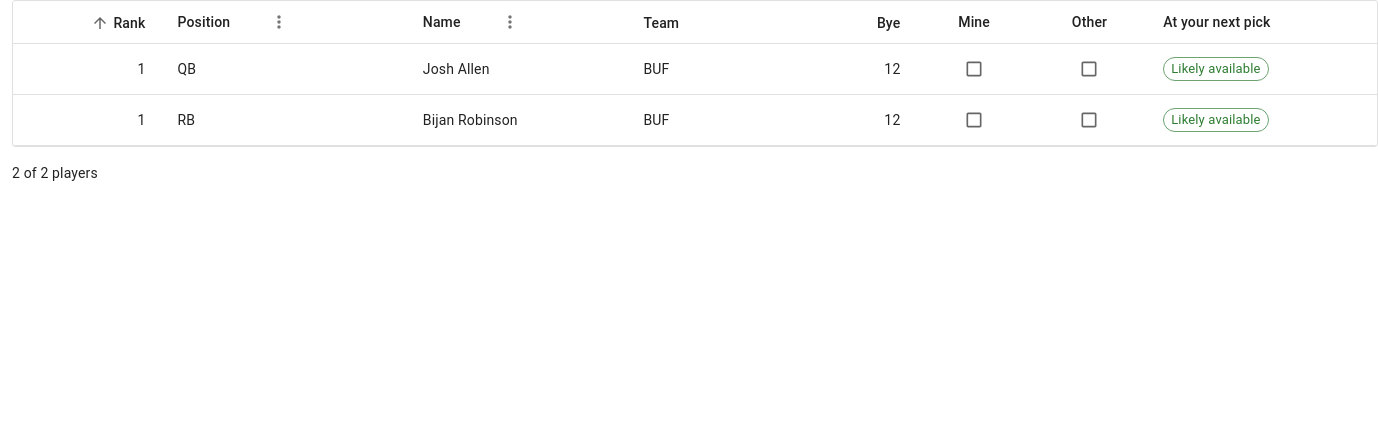
Scenario: PlayerTable › shows the count of visible vs total players
The width and height of the screenshot is (1378, 442).
Check: the text "2 of 2 players" is shown, box left=12, top=165, right=98, bottom=181
What coordinates should you click on to do the following:
click the button named "Open position filter menu"
I would click on:
 (279, 22)
Its box is left=264, top=7, right=294, bottom=37.
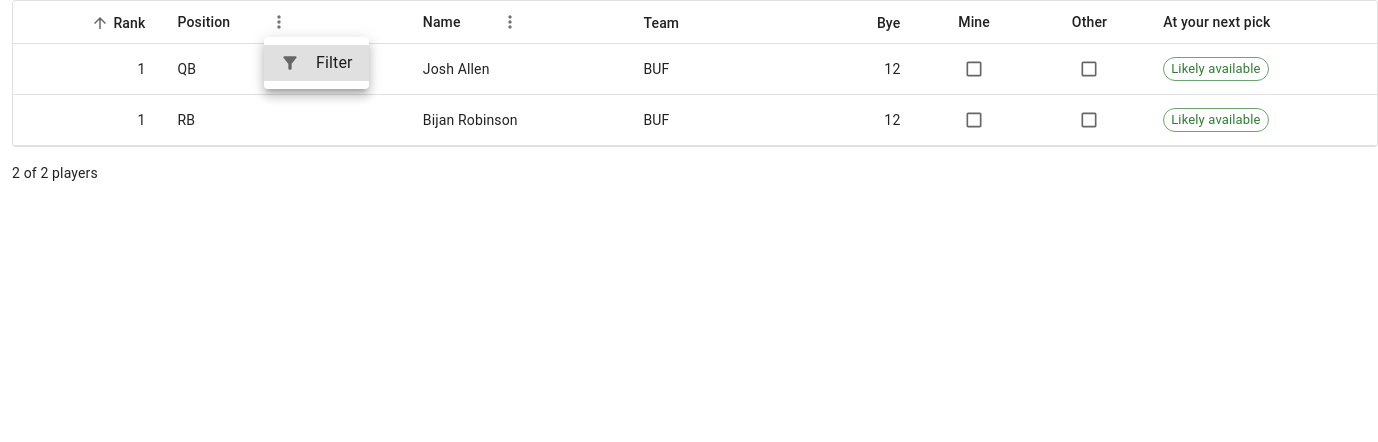
What coordinates should you click on to do the following:
click the menu item "Filter"
I would click on:
 (316, 63)
Its box is left=264, top=45, right=369, bottom=81.
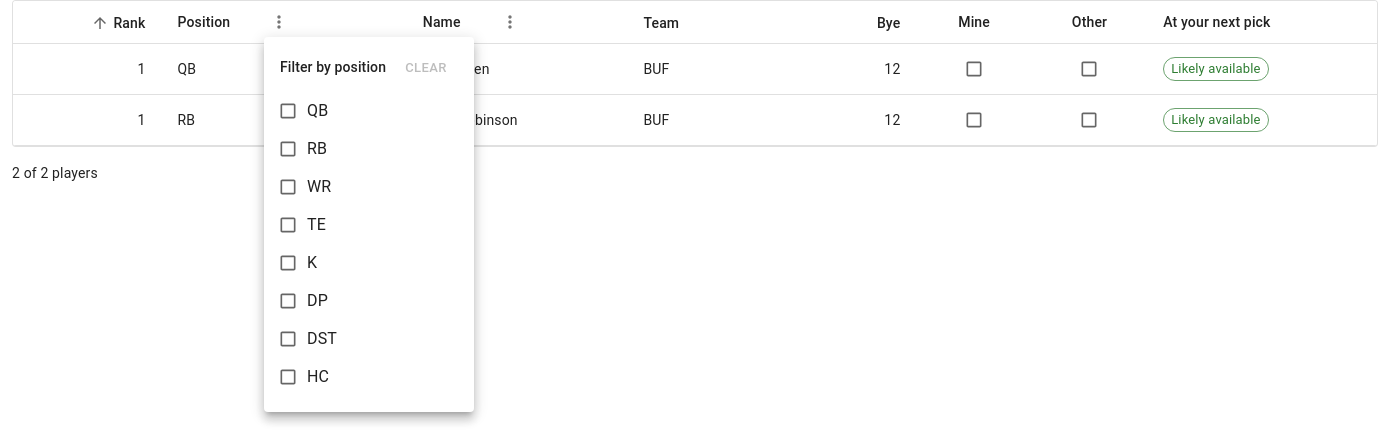
What coordinates should you click on to do the following:
click the 5th checkbox labelled "RB"
I would click on:
 (288, 149)
Its box is left=278, top=139, right=327, bottom=159.
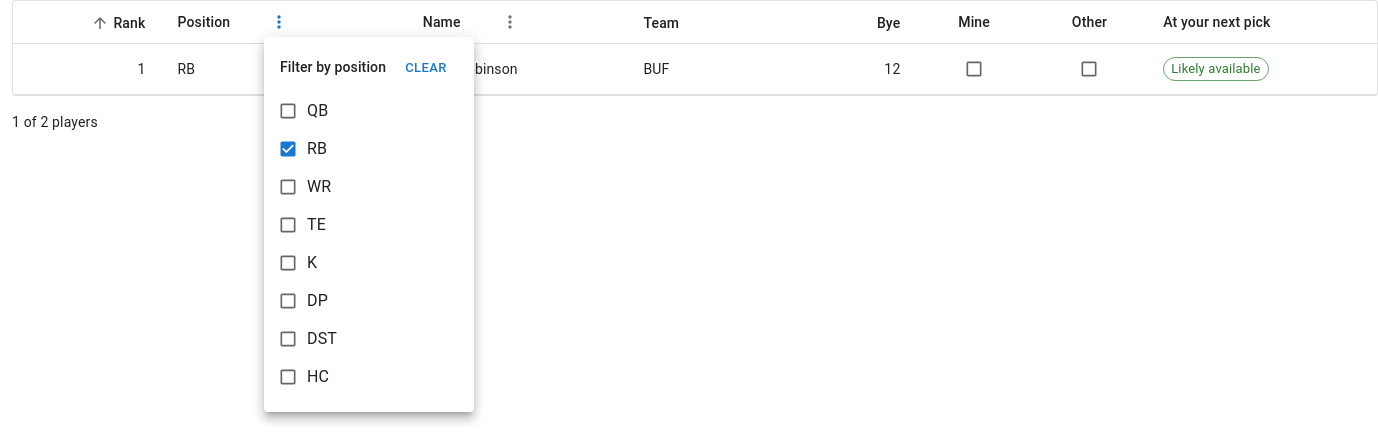
Check: the text "1 of 2 players" is shown, box left=12, top=114, right=98, bottom=130
